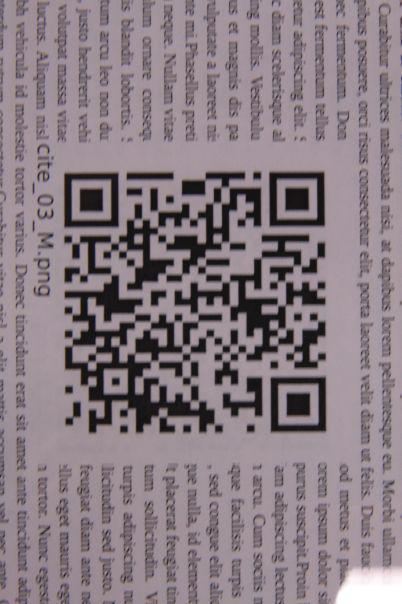Finder pattern: (262, 369, 335, 445), (263, 165, 334, 235), (58, 162, 122, 239)
